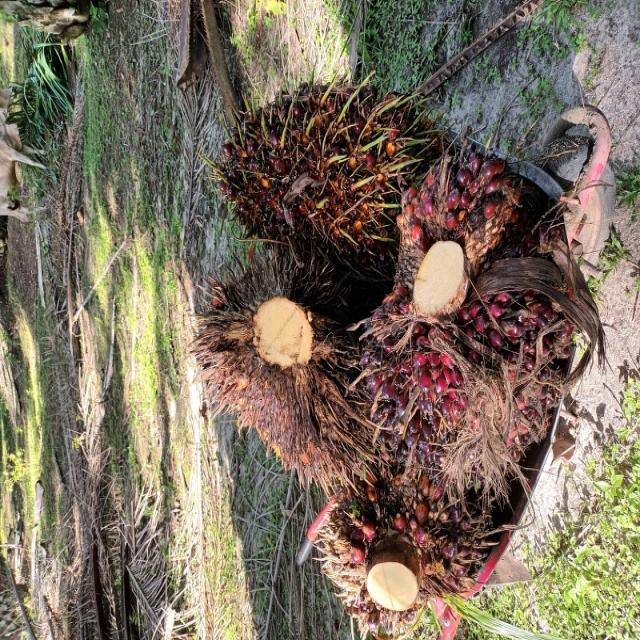fraksi 1: (9, 228, 430, 640)
